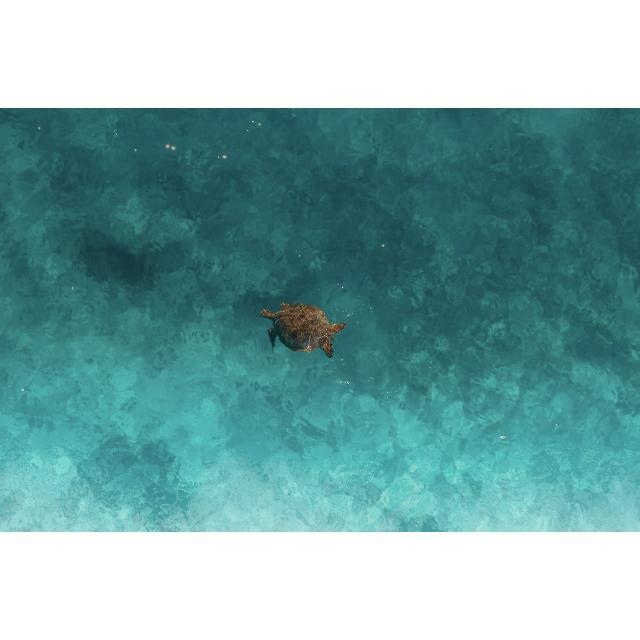turtle: (258, 301, 346, 359)
